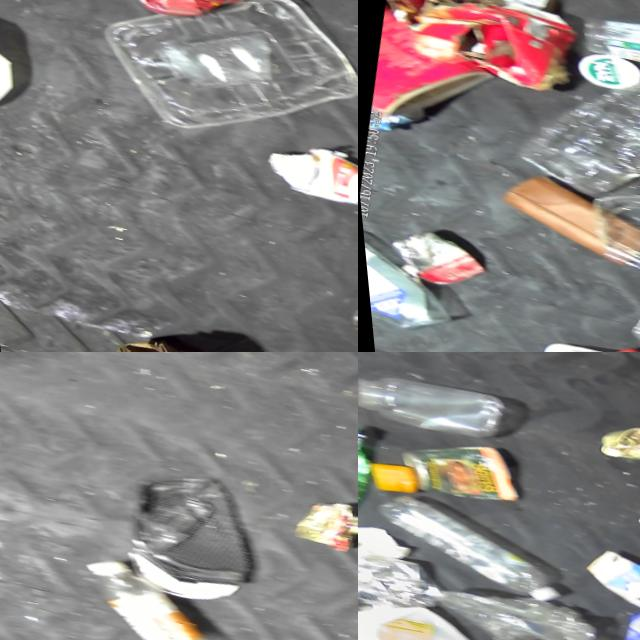can: (385, 427, 530, 514), (377, 224, 482, 297), (116, 0, 252, 34), (328, 290, 358, 352)
milk_jug: (358, 585, 501, 640), (0, 19, 22, 132)
plastic_bottle: (358, 485, 574, 608), (496, 46, 640, 220), (567, 0, 640, 94)
